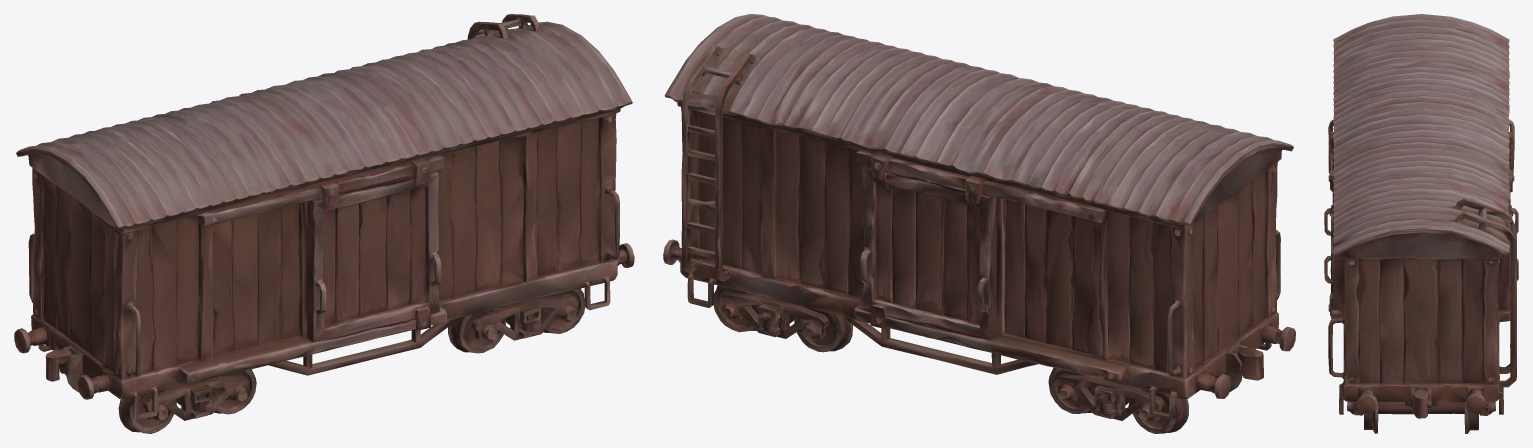
File: train_freight_b_idle.glb
3 renders of one model, left to right at view 1: azimuth 30°, elevation 25°; view 2: azimuth 150°, elevation 25°; view 3: azimuth 270°, elevation 25°, orthographic. The views are drawn at different scales.
Parts seen in each view (by area): view 1: tripo_node_ee5d735d-7a36-4a41-9122-047f85413aec; view 2: tripo_node_ee5d735d-7a36-4a41-9122-047f85413aec; view 3: tripo_node_ee5d735d-7a36-4a41-9122-047f85413aec.
Part boxes in pixels (x1=…): tripo_node_ee5d735d-7a36-4a41-9122-047f85413aec: x1=14, y1=14, x2=634, y2=433; tripo_node_ee5d735d-7a36-4a41-9122-047f85413aec: x1=663, y1=14, x2=1295, y2=433; tripo_node_ee5d735d-7a36-4a41-9122-047f85413aec: x1=1324, y1=14, x2=1518, y2=433.
Size of the model in its own units: 7 by 3.28 by 2.5.
Materials: 1 (1 with a texture image).
